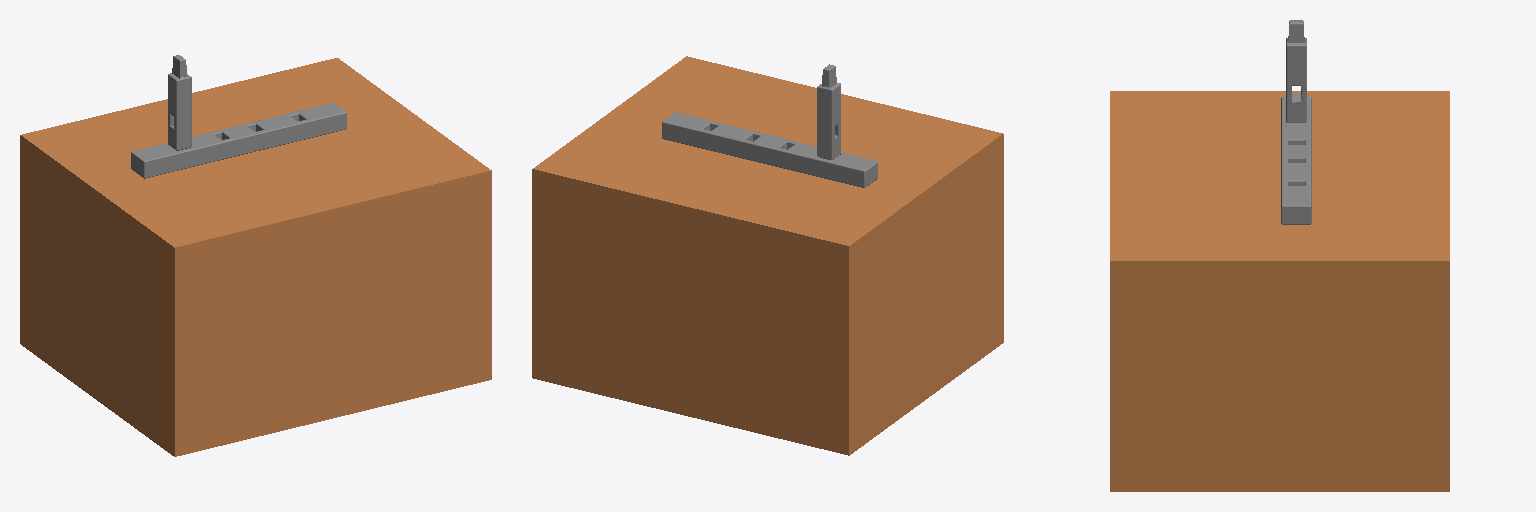
robot.urdf — table_beam_2x_0_scene_0036:
<?xml version="1.0"?>
<robot name="table_beam_2x_0_scene_0036">
  <link name="box">
    <visual>
      <material name="wood"><color rgba="0.82 0.56 0.35 1.0"/></material>
      <origin xyz="0 0 0"/>
      <geometry><box size="0.475 0.4 0.3"/></geometry>
    </visual>
    <collision>
      <origin xyz="0 0 0"/>
      <geometry><box size="0.475 0.4 0.3"/></geometry>
    </collision>
    <inertial>
      <mass value="500"/>
      <friction value="1.0"/>
      <inertia ixx="1000.0" ixy="0.0" ixz="0.0" iyy="1000.0" iyz="0.0" izz="1000.0"/>
    </inertial>
  </link>
  <link name="part_6_canonical">
    <visual>
      <origin xyz="0 0 0" rpy="0 0 0"/>
      <geometry><mesh filename="../../6/6_canonical.obj" scale="1 1 1"/></geometry>
      <material name="placed_0"><color rgba="0.6 0.6 0.6 1.0"/></material>
    </visual>
    <collision>
      <origin xyz="0 0 0" rpy="0 0 0"/>
      <geometry><mesh filename="../../6/6_canonical.obj" scale="1 1 1"/></geometry>
    </collision>
  </link>
  <joint name="part_6_canonical_joint" type="fixed">
    <parent link="box"/>
    <child link="part_6_canonical"/>
    <origin xyz="-0.014272 0.019431 0.162666" rpy="0.000000 0.000000 0.000000"/>
  </joint>
  <link name="part_2_hull_0">
    <visual>
      <origin xyz="0 0 0" rpy="0 0 0"/>
      <geometry><mesh filename="../../2/coacd/decomp_0.obj" scale="1 1 1"/></geometry>
      <material name="placed_1"><color rgba="0.6 0.6 0.6 1.0"/></material>
    </visual>
    <collision>
      <origin xyz="0 0 0" rpy="0 0 0"/>
      <geometry><mesh filename="../../2/coacd/decomp_0.obj" scale="1 1 1"/></geometry>
    </collision>
  </link>
  <joint name="part_2_hull_0_joint" type="fixed">
    <parent link="box"/>
    <child link="part_2_hull_0"/>
    <origin xyz="-0.103199 0.019431 0.225384" rpy="0.000000 -1.570796 0.000000"/>
  </joint>
  <link name="part_2_hull_1">
    <visual>
      <origin xyz="0 0 0" rpy="0 0 0"/>
      <geometry><mesh filename="../../2/coacd/decomp_1.obj" scale="1 1 1"/></geometry>
      <material name="placed_2"><color rgba="0.6 0.6 0.6 1.0"/></material>
    </visual>
    <collision>
      <origin xyz="0 0 0" rpy="0 0 0"/>
      <geometry><mesh filename="../../2/coacd/decomp_1.obj" scale="1 1 1"/></geometry>
    </collision>
  </link>
  <joint name="part_2_hull_1_joint" type="fixed">
    <parent link="box"/>
    <child link="part_2_hull_1"/>
    <origin xyz="-0.103199 0.019431 0.225384" rpy="0.000000 -1.570796 0.000000"/>
  </joint>
  <link name="part_2_hull_2">
    <visual>
      <origin xyz="0 0 0" rpy="0 0 0"/>
      <geometry><mesh filename="../../2/coacd/decomp_10.obj" scale="1 1 1"/></geometry>
      <material name="placed_3"><color rgba="0.6 0.6 0.6 1.0"/></material>
    </visual>
    <collision>
      <origin xyz="0 0 0" rpy="0 0 0"/>
      <geometry><mesh filename="../../2/coacd/decomp_10.obj" scale="1 1 1"/></geometry>
    </collision>
  </link>
  <joint name="part_2_hull_2_joint" type="fixed">
    <parent link="box"/>
    <child link="part_2_hull_2"/>
    <origin xyz="-0.103199 0.019431 0.225384" rpy="0.000000 -1.570796 0.000000"/>
  </joint>
  <link name="part_2_hull_3">
    <visual>
      <origin xyz="0 0 0" rpy="0 0 0"/>
      <geometry><mesh filename="../../2/coacd/decomp_11.obj" scale="1 1 1"/></geometry>
      <material name="placed_4"><color rgba="0.6 0.6 0.6 1.0"/></material>
    </visual>
    <collision>
      <origin xyz="0 0 0" rpy="0 0 0"/>
      <geometry><mesh filename="../../2/coacd/decomp_11.obj" scale="1 1 1"/></geometry>
    </collision>
  </link>
  <joint name="part_2_hull_3_joint" type="fixed">
    <parent link="box"/>
    <child link="part_2_hull_3"/>
    <origin xyz="-0.103199 0.019431 0.225384" rpy="0.000000 -1.570796 0.000000"/>
  </joint>
  <link name="part_2_hull_4">
    <visual>
      <origin xyz="0 0 0" rpy="0 0 0"/>
      <geometry><mesh filename="../../2/coacd/decomp_12.obj" scale="1 1 1"/></geometry>
      <material name="placed_5"><color rgba="0.6 0.6 0.6 1.0"/></material>
    </visual>
    <collision>
      <origin xyz="0 0 0" rpy="0 0 0"/>
      <geometry><mesh filename="../../2/coacd/decomp_12.obj" scale="1 1 1"/></geometry>
    </collision>
  </link>
  <joint name="part_2_hull_4_joint" type="fixed">
    <parent link="box"/>
    <child link="part_2_hull_4"/>
    <origin xyz="-0.103199 0.019431 0.225384" rpy="0.000000 -1.570796 0.000000"/>
  </joint>
  <link name="part_2_hull_5">
    <visual>
      <origin xyz="0 0 0" rpy="0 0 0"/>
      <geometry><mesh filename="../../2/coacd/decomp_13.obj" scale="1 1 1"/></geometry>
      <material name="placed_6"><color rgba="0.6 0.6 0.6 1.0"/></material>
    </visual>
    <collision>
      <origin xyz="0 0 0" rpy="0 0 0"/>
      <geometry><mesh filename="../../2/coacd/decomp_13.obj" scale="1 1 1"/></geometry>
    </collision>
  </link>
  <joint name="part_2_hull_5_joint" type="fixed">
    <parent link="box"/>
    <child link="part_2_hull_5"/>
    <origin xyz="-0.103199 0.019431 0.225384" rpy="0.000000 -1.570796 0.000000"/>
  </joint>
  <link name="part_2_hull_6">
    <visual>
      <origin xyz="0 0 0" rpy="0 0 0"/>
      <geometry><mesh filename="../../2/coacd/decomp_14.obj" scale="1 1 1"/></geometry>
      <material name="placed_7"><color rgba="0.6 0.6 0.6 1.0"/></material>
    </visual>
    <collision>
      <origin xyz="0 0 0" rpy="0 0 0"/>
      <geometry><mesh filename="../../2/coacd/decomp_14.obj" scale="1 1 1"/></geometry>
    </collision>
  </link>
  <joint name="part_2_hull_6_joint" type="fixed">
    <parent link="box"/>
    <child link="part_2_hull_6"/>
    <origin xyz="-0.103199 0.019431 0.225384" rpy="0.000000 -1.570796 0.000000"/>
  </joint>
  <link name="part_2_hull_7">
    <visual>
      <origin xyz="0 0 0" rpy="0 0 0"/>
      <geometry><mesh filename="../../2/coacd/decomp_15.obj" scale="1 1 1"/></geometry>
      <material name="placed_8"><color rgba="0.6 0.6 0.6 1.0"/></material>
    </visual>
    <collision>
      <origin xyz="0 0 0" rpy="0 0 0"/>
      <geometry><mesh filename="../../2/coacd/decomp_15.obj" scale="1 1 1"/></geometry>
    </collision>
  </link>
  <joint name="part_2_hull_7_joint" type="fixed">
    <parent link="box"/>
    <child link="part_2_hull_7"/>
    <origin xyz="-0.103199 0.019431 0.225384" rpy="0.000000 -1.570796 0.000000"/>
  </joint>
  <link name="part_2_hull_8">
    <visual>
      <origin xyz="0 0 0" rpy="0 0 0"/>
      <geometry><mesh filename="../../2/coacd/decomp_2.obj" scale="1 1 1"/></geometry>
      <material name="placed_9"><color rgba="0.6 0.6 0.6 1.0"/></material>
    </visual>
    <collision>
      <origin xyz="0 0 0" rpy="0 0 0"/>
      <geometry><mesh filename="../../2/coacd/decomp_2.obj" scale="1 1 1"/></geometry>
    </collision>
  </link>
  <joint name="part_2_hull_8_joint" type="fixed">
    <parent link="box"/>
    <child link="part_2_hull_8"/>
    <origin xyz="-0.103199 0.019431 0.225384" rpy="0.000000 -1.570796 0.000000"/>
  </joint>
  <link name="part_2_hull_9">
    <visual>
      <origin xyz="0 0 0" rpy="0 0 0"/>
      <geometry><mesh filename="../../2/coacd/decomp_3.obj" scale="1 1 1"/></geometry>
      <material name="placed_10"><color rgba="0.6 0.6 0.6 1.0"/></material>
    </visual>
    <collision>
      <origin xyz="0 0 0" rpy="0 0 0"/>
      <geometry><mesh filename="../../2/coacd/decomp_3.obj" scale="1 1 1"/></geometry>
    </collision>
  </link>
  <joint name="part_2_hull_9_joint" type="fixed">
    <parent link="box"/>
    <child link="part_2_hull_9"/>
    <origin xyz="-0.103199 0.019431 0.225384" rpy="0.000000 -1.570796 0.000000"/>
  </joint>
  <link name="part_2_hull_10">
    <visual>
      <origin xyz="0 0 0" rpy="0 0 0"/>
      <geometry><mesh filename="../../2/coacd/decomp_4.obj" scale="1 1 1"/></geometry>
      <material name="placed_11"><color rgba="0.6 0.6 0.6 1.0"/></material>
    </visual>
    <collision>
      <origin xyz="0 0 0" rpy="0 0 0"/>
      <geometry><mesh filename="../../2/coacd/decomp_4.obj" scale="1 1 1"/></geometry>
    </collision>
  </link>
  <joint name="part_2_hull_10_joint" type="fixed">
    <parent link="box"/>
    <child link="part_2_hull_10"/>
    <origin xyz="-0.103199 0.019431 0.225384" rpy="0.000000 -1.570796 0.000000"/>
  </joint>
  <link name="part_2_hull_11">
    <visual>
      <origin xyz="0 0 0" rpy="0 0 0"/>
      <geometry><mesh filename="../../2/coacd/decomp_5.obj" scale="1 1 1"/></geometry>
      <material name="placed_12"><color rgba="0.6 0.6 0.6 1.0"/></material>
    </visual>
    <collision>
      <origin xyz="0 0 0" rpy="0 0 0"/>
      <geometry><mesh filename="../../2/coacd/decomp_5.obj" scale="1 1 1"/></geometry>
    </collision>
  </link>
  <joint name="part_2_hull_11_joint" type="fixed">
    <parent link="box"/>
    <child link="part_2_hull_11"/>
    <origin xyz="-0.103199 0.019431 0.225384" rpy="0.000000 -1.570796 0.000000"/>
  </joint>
  <link name="part_2_hull_12">
    <visual>
      <origin xyz="0 0 0" rpy="0 0 0"/>
      <geometry><mesh filename="../../2/coacd/decomp_6.obj" scale="1 1 1"/></geometry>
      <material name="placed_13"><color rgba="0.6 0.6 0.6 1.0"/></material>
    </visual>
    <collision>
      <origin xyz="0 0 0" rpy="0 0 0"/>
      <geometry><mesh filename="../../2/coacd/decomp_6.obj" scale="1 1 1"/></geometry>
    </collision>
  </link>
  <joint name="part_2_hull_12_joint" type="fixed">
    <parent link="box"/>
    <child link="part_2_hull_12"/>
    <origin xyz="-0.103199 0.019431 0.225384" rpy="0.000000 -1.570796 0.000000"/>
  </joint>
  <link name="part_2_hull_13">
    <visual>
      <origin xyz="0 0 0" rpy="0 0 0"/>
      <geometry><mesh filename="../../2/coacd/decomp_7.obj" scale="1 1 1"/></geometry>
      <material name="placed_14"><color rgba="0.6 0.6 0.6 1.0"/></material>
    </visual>
    <collision>
      <origin xyz="0 0 0" rpy="0 0 0"/>
      <geometry><mesh filename="../../2/coacd/decomp_7.obj" scale="1 1 1"/></geometry>
    </collision>
  </link>
  <joint name="part_2_hull_13_joint" type="fixed">
    <parent link="box"/>
    <child link="part_2_hull_13"/>
    <origin xyz="-0.103199 0.019431 0.225384" rpy="0.000000 -1.570796 0.000000"/>
  </joint>
  <link name="part_2_hull_14">
    <visual>
      <origin xyz="0 0 0" rpy="0 0 0"/>
      <geometry><mesh filename="../../2/coacd/decomp_8.obj" scale="1 1 1"/></geometry>
      <material name="placed_15"><color rgba="0.6 0.6 0.6 1.0"/></material>
    </visual>
    <collision>
      <origin xyz="0 0 0" rpy="0 0 0"/>
      <geometry><mesh filename="../../2/coacd/decomp_8.obj" scale="1 1 1"/></geometry>
    </collision>
  </link>
  <joint name="part_2_hull_14_joint" type="fixed">
    <parent link="box"/>
    <child link="part_2_hull_14"/>
    <origin xyz="-0.103199 0.019431 0.225384" rpy="0.000000 -1.570796 0.000000"/>
  </joint>
  <link name="part_2_hull_15">
    <visual>
      <origin xyz="0 0 0" rpy="0 0 0"/>
      <geometry><mesh filename="../../2/coacd/decomp_9.obj" scale="1 1 1"/></geometry>
      <material name="placed_16"><color rgba="0.6 0.6 0.6 1.0"/></material>
    </visual>
    <collision>
      <origin xyz="0 0 0" rpy="0 0 0"/>
      <geometry><mesh filename="../../2/coacd/decomp_9.obj" scale="1 1 1"/></geometry>
    </collision>
  </link>
  <joint name="part_2_hull_15_joint" type="fixed">
    <parent link="box"/>
    <child link="part_2_hull_15"/>
    <origin xyz="-0.103199 0.019431 0.225384" rpy="0.000000 -1.570796 0.000000"/>
  </joint>
</robot>

--- What the picture shows (computed from the rendered views, not written in the file) ---
The picture shows the robot from 3 angles, left to right: view 1: azimuth 30°, elevation 25°; view 2: azimuth 150°, elevation 25°; view 3: azimuth 270°, elevation 25°; orthographic projection.
Robot: table_beam_2x_0_scene_0036 — 18 links, 17 joints (17 fixed); root link box; default pose: all joints at 0.
Visible links, largest first — view 1: box, part_6_canonical; view 2: box, part_6_canonical; view 3: box, part_6_canonical.
Link boxes in pixels (<box>): box: <box>20,58,491,456</box>; part_6_canonical: <box>131,103,346,178</box>; box: <box>532,56,1003,455</box>; part_6_canonical: <box>662,112,877,187</box>; box: <box>1110,91,1449,491</box>; part_6_canonical: <box>1281,97,1311,224</box>.
Size in the robot's own frame: 0.475 by 0.4 by 0.4524 metres.
Meshes: 17 distinct files referenced, 17 mesh visuals loaded (17 OBJ).
